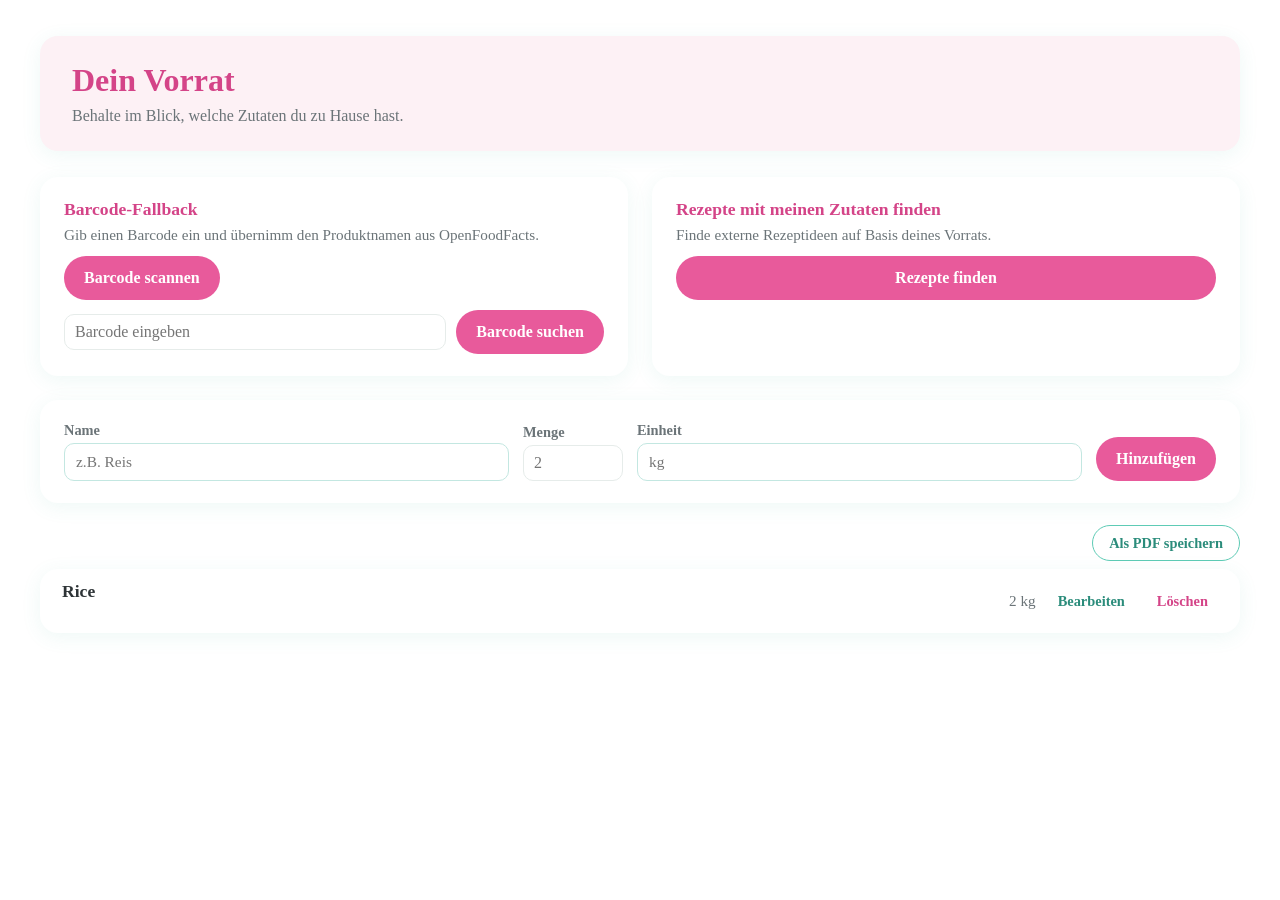
it: PantryView › shows inline edit form when clicking edit
Click the button with class "edit-btn": [1091, 601] box [1048, 581, 1135, 621]
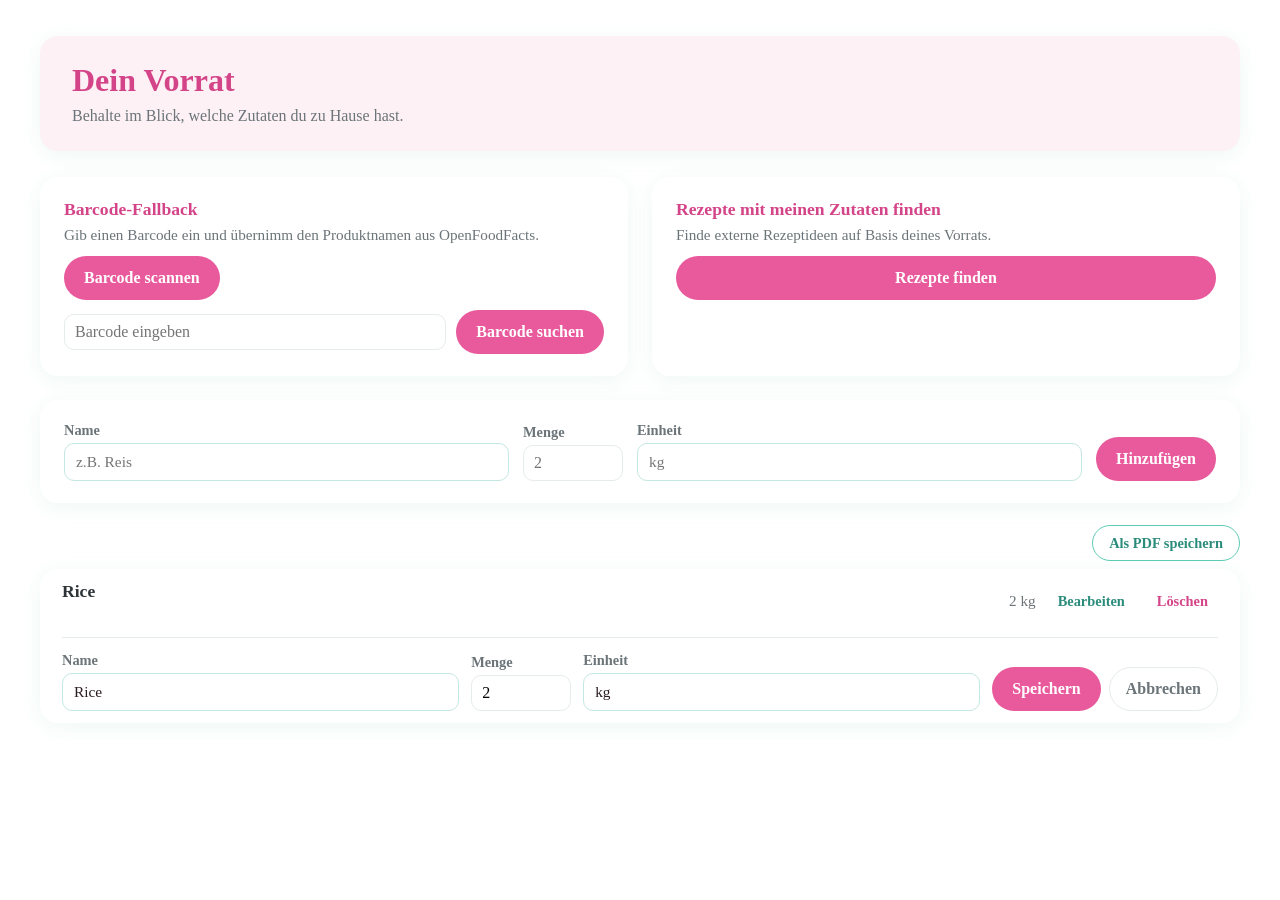
Expected: the heading "Rice" is shown, [62, 581, 95, 601]
Now the form with class "edit-form" is shown, box [62, 637, 1218, 711]
